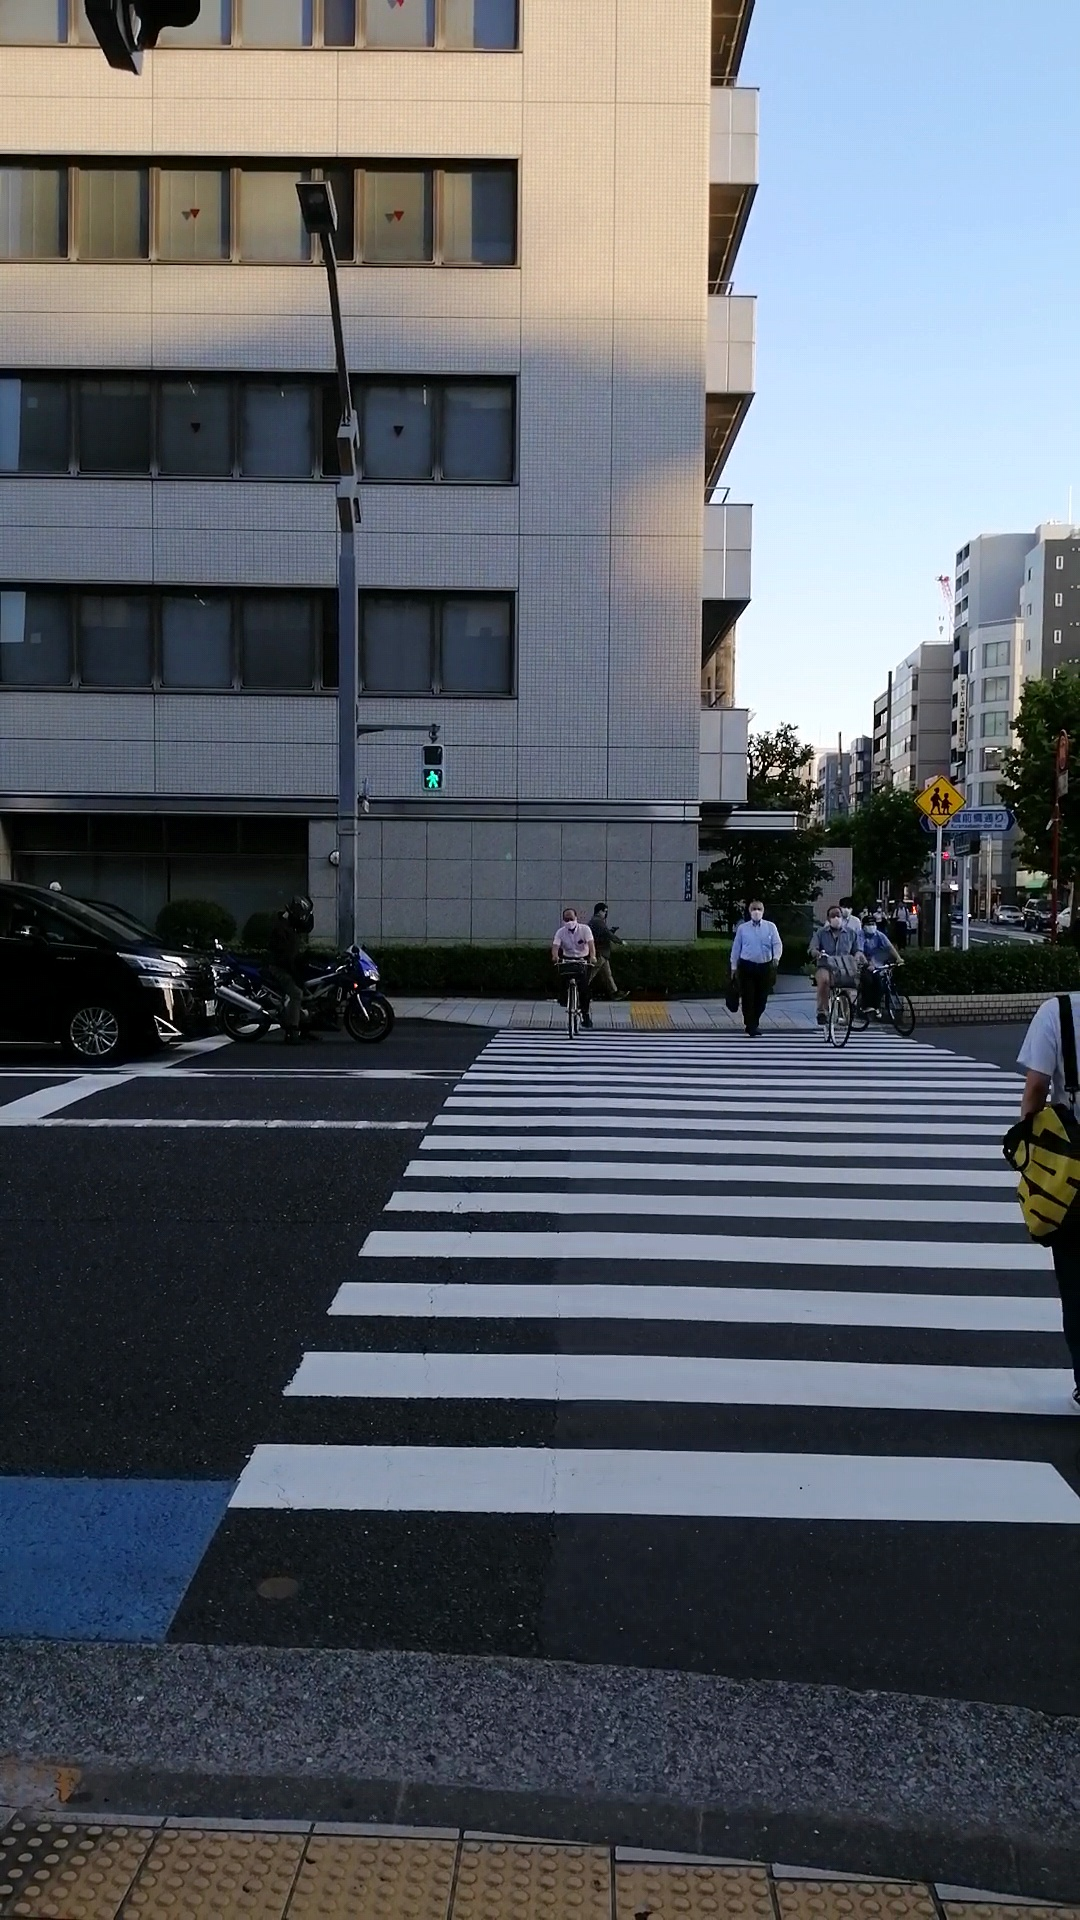green: (419, 742, 446, 793)
